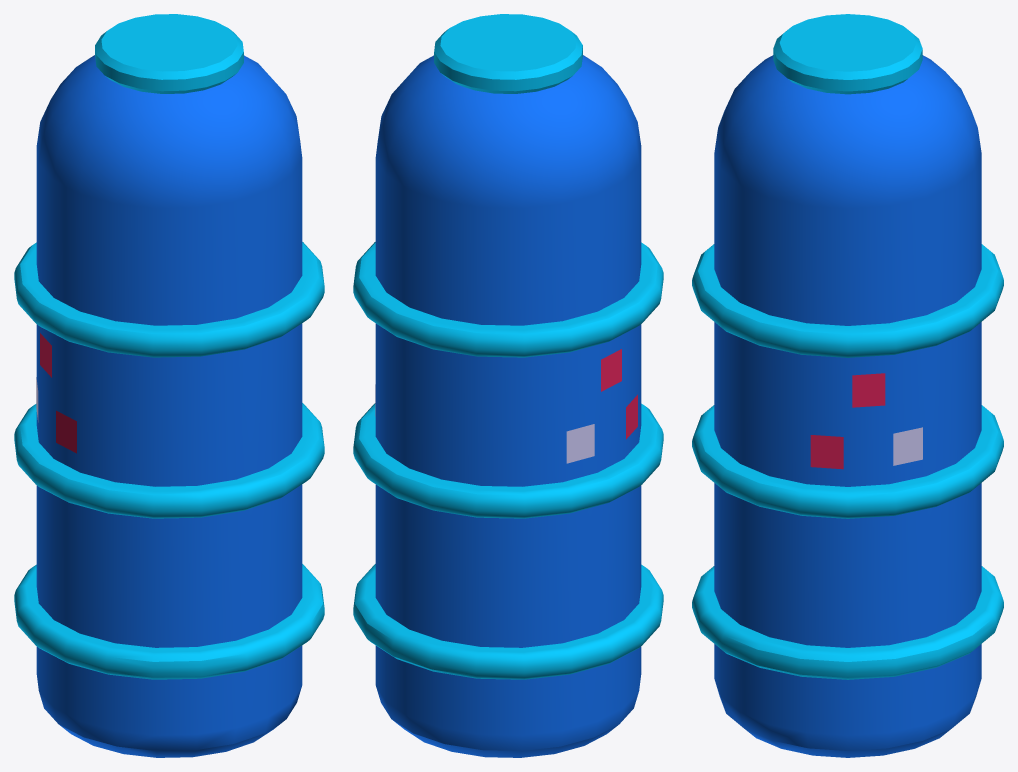
File: Building_022_a.fbx
3 renders of one model, left to right at view 1: azimuth 30°, elevation 25°; view 2: azimuth 150°, elevation 25°; view 3: azimuth 270°, elevation 25°, orthographic.
Visible parts, largest first — view 1: Building_022_a; view 2: Building_022_a; view 3: Building_022_a.
Part boxes in pixels (box(x1,y1,x2,y2)): Building_022_a: box(14, 14, 324, 757); Building_022_a: box(353, 14, 663, 757); Building_022_a: box(692, 14, 1003, 757).
Bounding box in the file's own units: 14.25 × 33.87 × 14.25.
